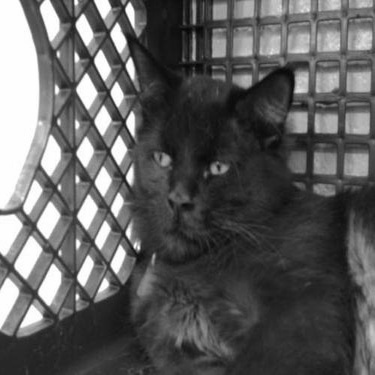cat: (109, 18, 369, 366)
